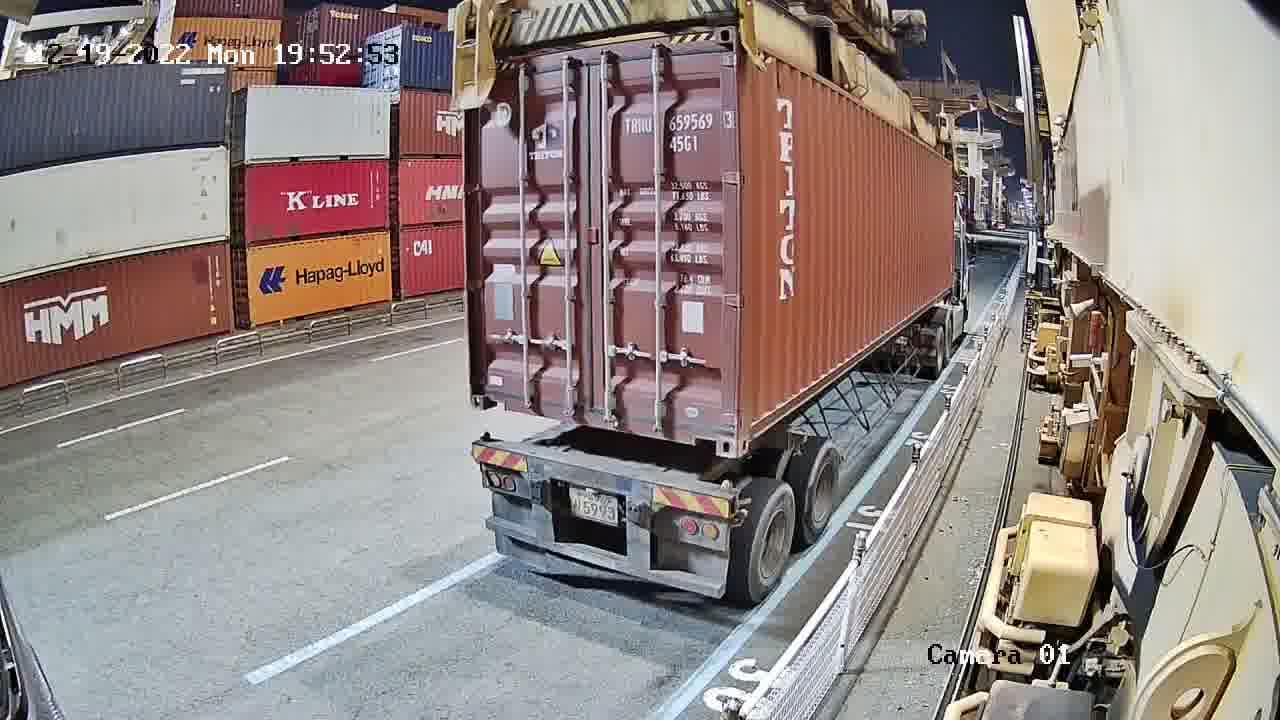Chassis: (472, 437, 735, 519)
Cone: (716, 475, 734, 496), (475, 430, 490, 445)
Hole_L: (737, 393, 769, 462), (468, 372, 507, 410)
Hole_R: (688, 401, 738, 459)
